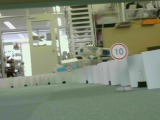speed_10: (109, 42, 129, 62)
